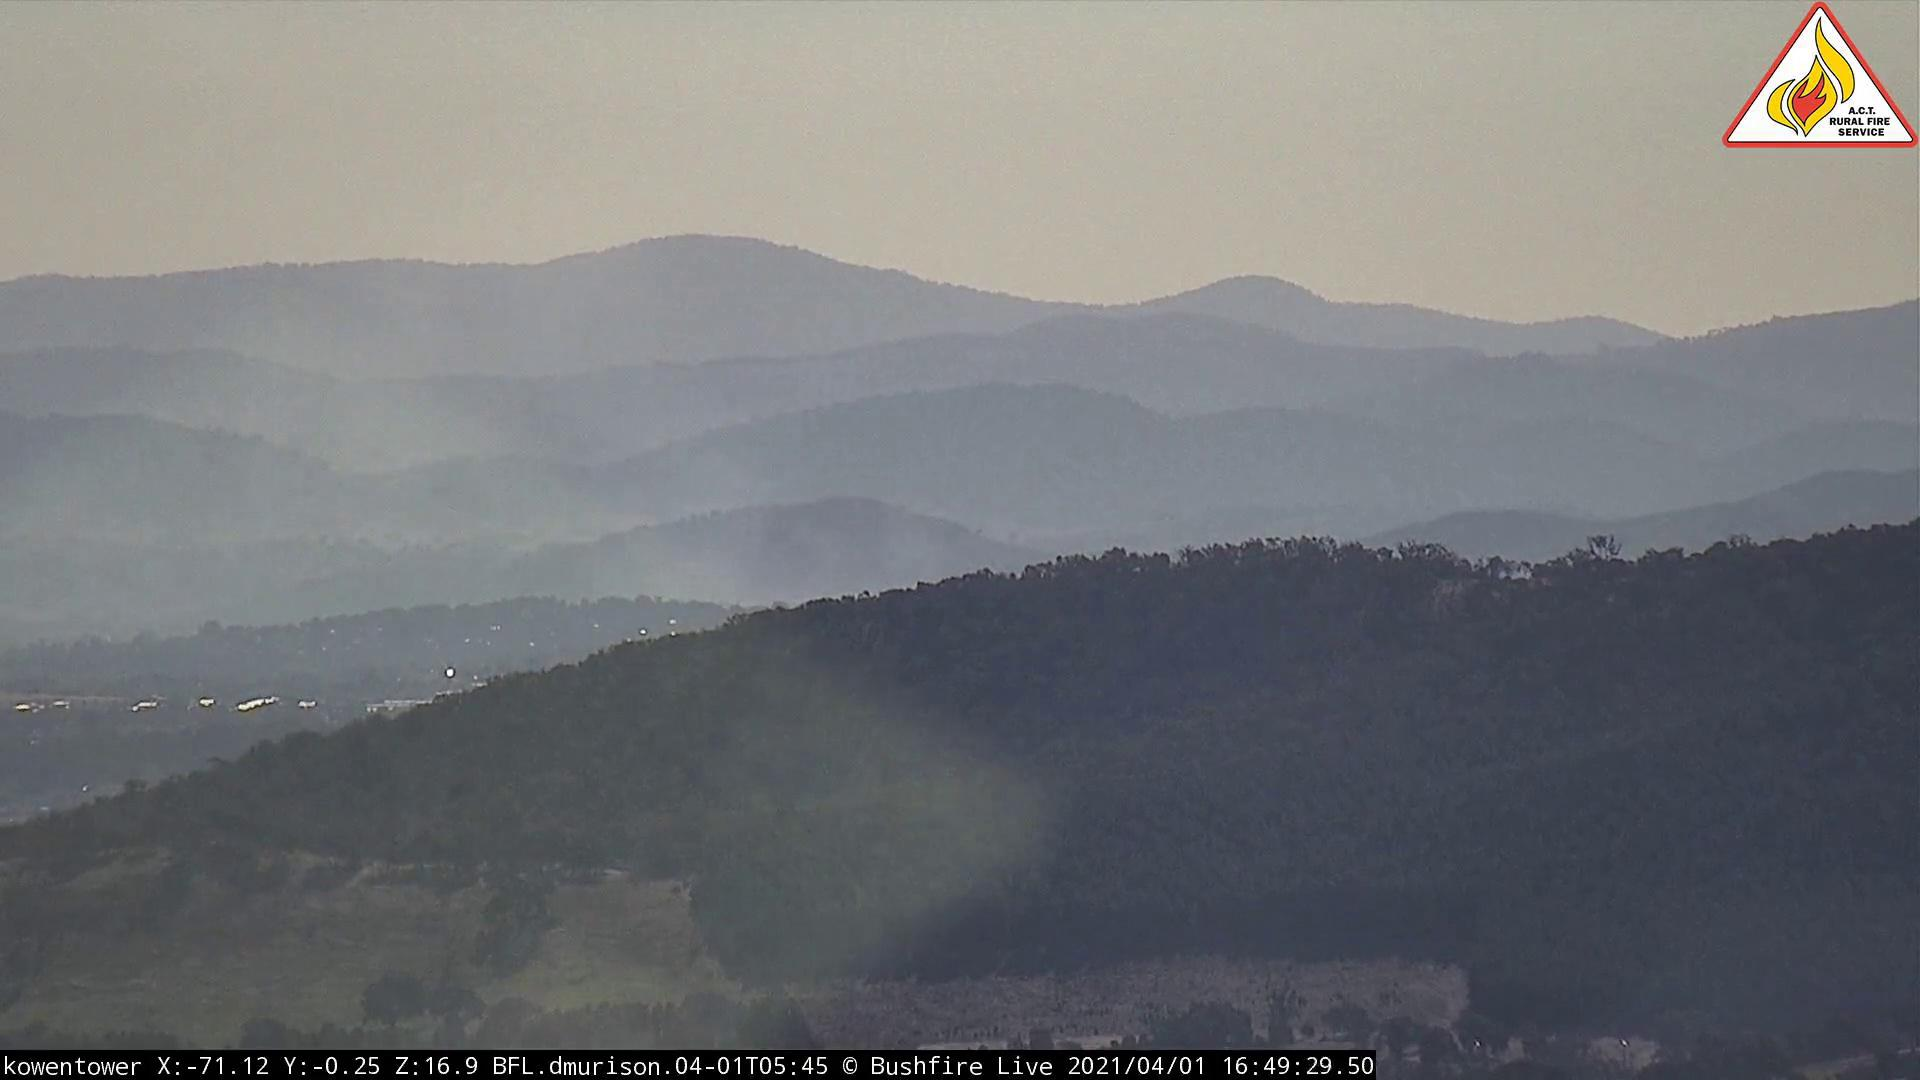Smoke: (520, 316, 1017, 657)
